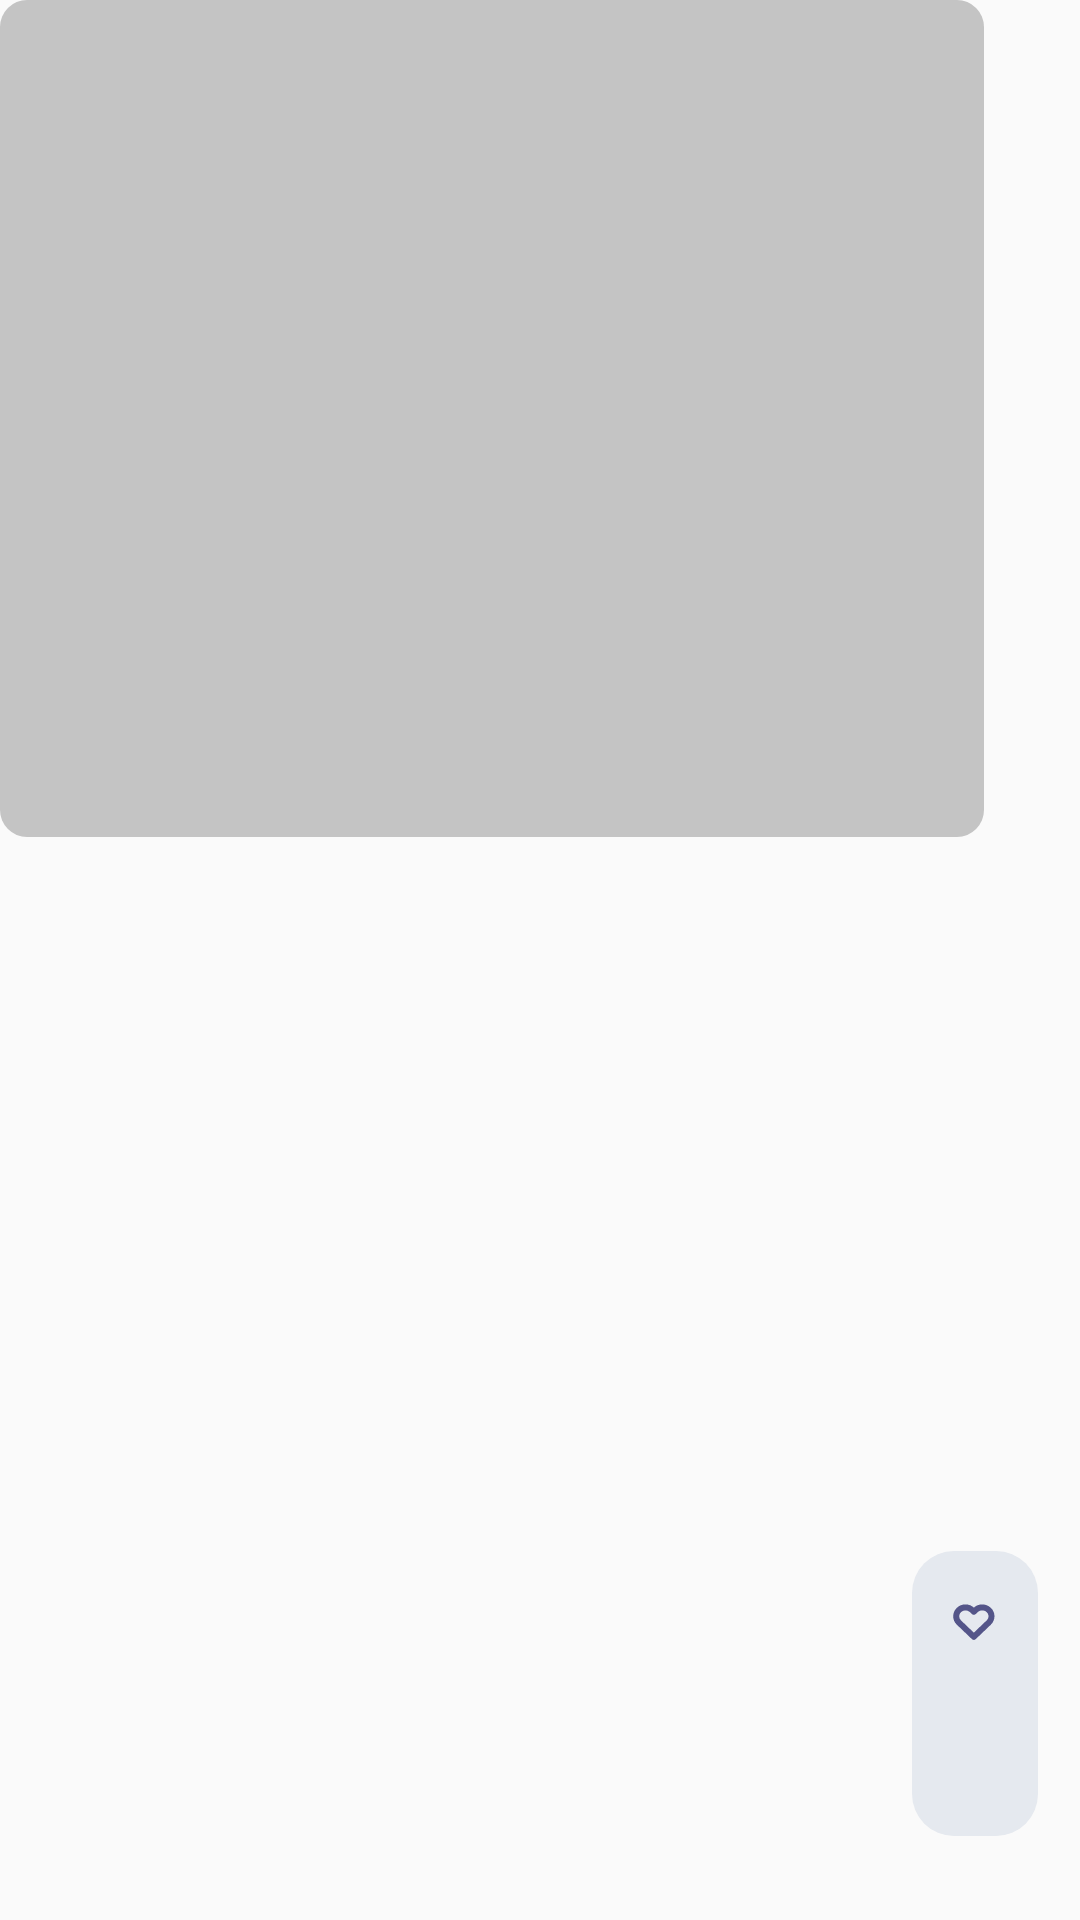

Screen size 1080 × 1920. Icon name, then its center in pixels as (x=x, y=y):
like passive: (x=974, y=1622)
